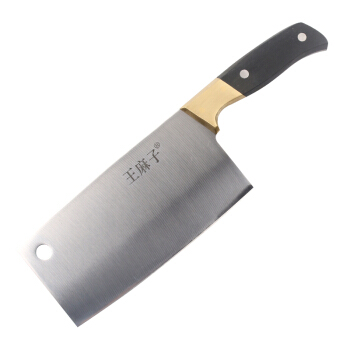knief: (56, 18, 323, 330)
